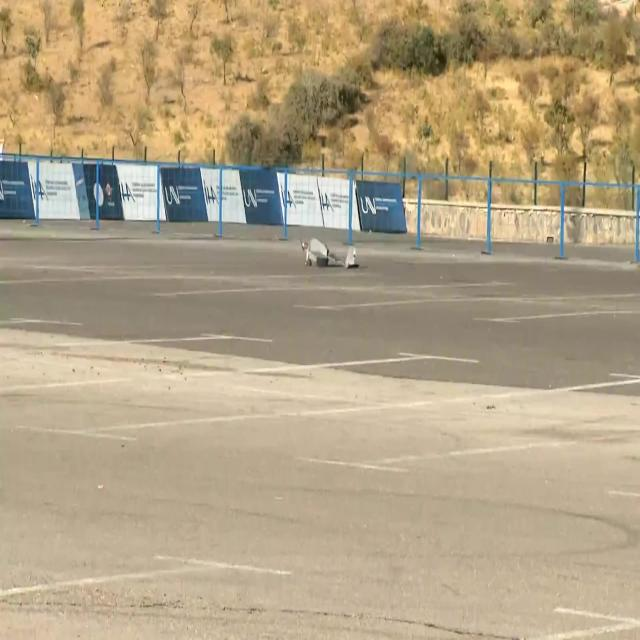iha: (295, 231, 350, 270)
